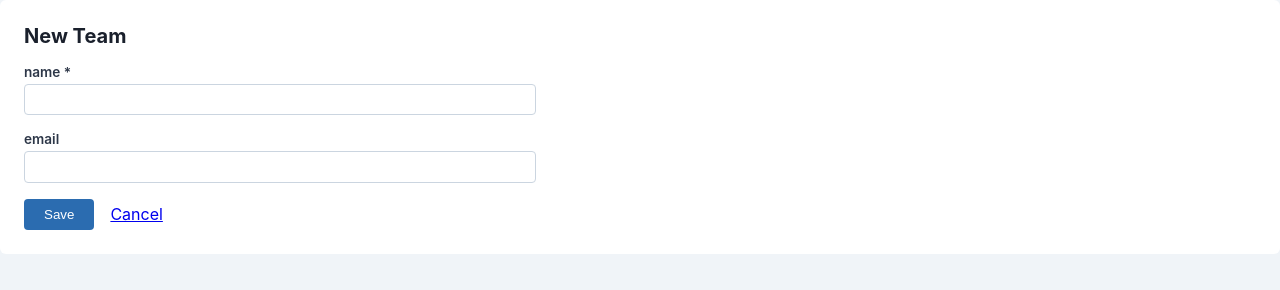
Test: NodeEditor › shows a server-side field error against its own field
Type "platform" into the field named "name".
click(280, 100); type("platform")  # box [24,84,536,115]
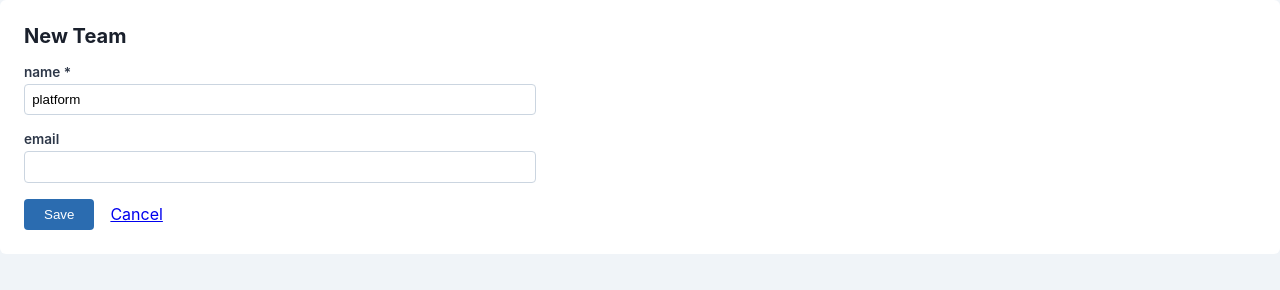
Submit the form, box [24,64,536,230]
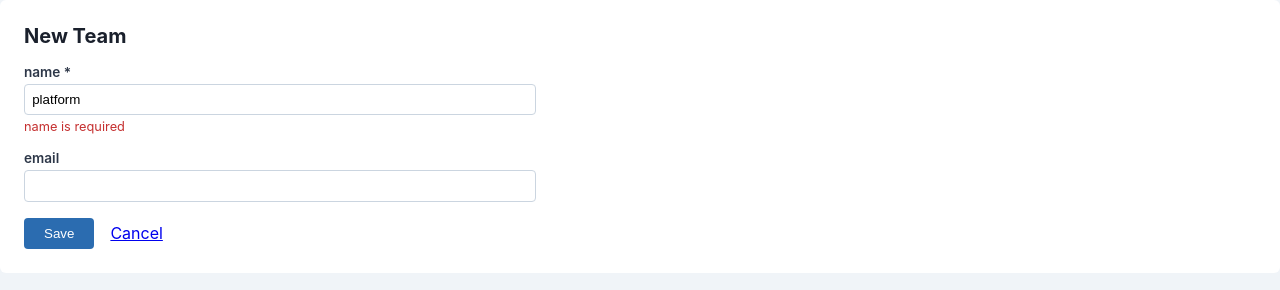
Now the text with test id "error-name" reads "name is required", box [24,119,125,134]
